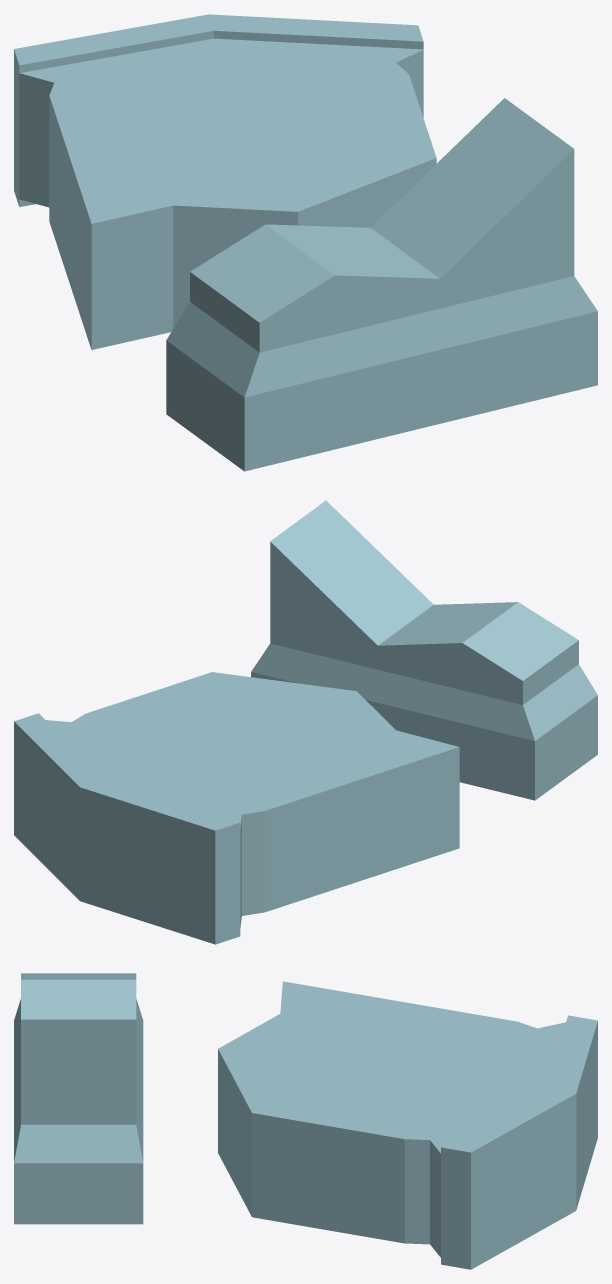
Rendered from gravestoneDebris.fbx.
3 renders of one model, top to bottom at view 1: azimuth 30°, elevation 25°; view 2: azimuth 150°, elevation 25°; view 3: azimuth 270°, elevation 25°, orthographic. The views are drawn at different scales.
Parts seen in each view (by area): view 1: gravestoneDebris; view 2: gravestoneDebris; view 3: gravestoneDebris.
Boxes of the visible parts, left/top/right/bottom form: gravestoneDebris: left=14, top=14, right=597, bottom=471; gravestoneDebris: left=14, top=500, right=597, bottom=944; gravestoneDebris: left=14, top=973, right=597, bottom=1269.
Bounding box in the file's own units: 4.97 × 2.59 × 6.75.
